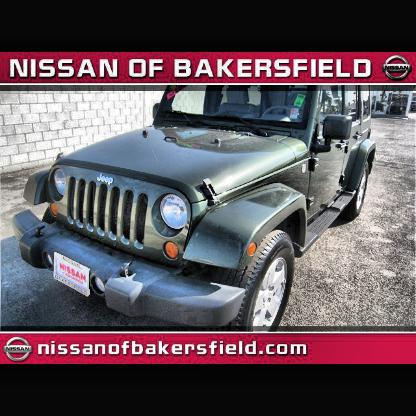Jeep Wrangler SUV 2012: (12, 85, 380, 334)
